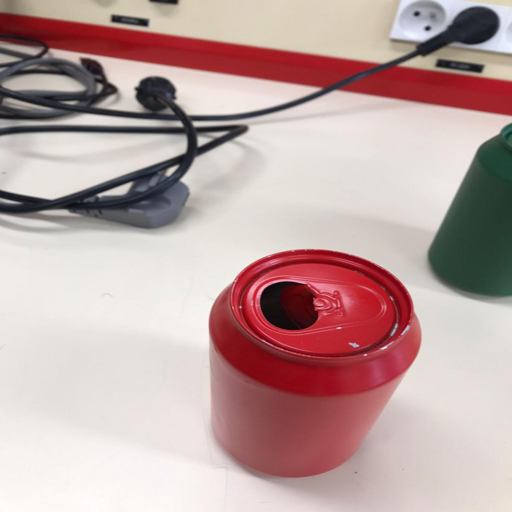Green_Can: (426, 119, 511, 299)
Red_Can: (206, 246, 422, 481)
